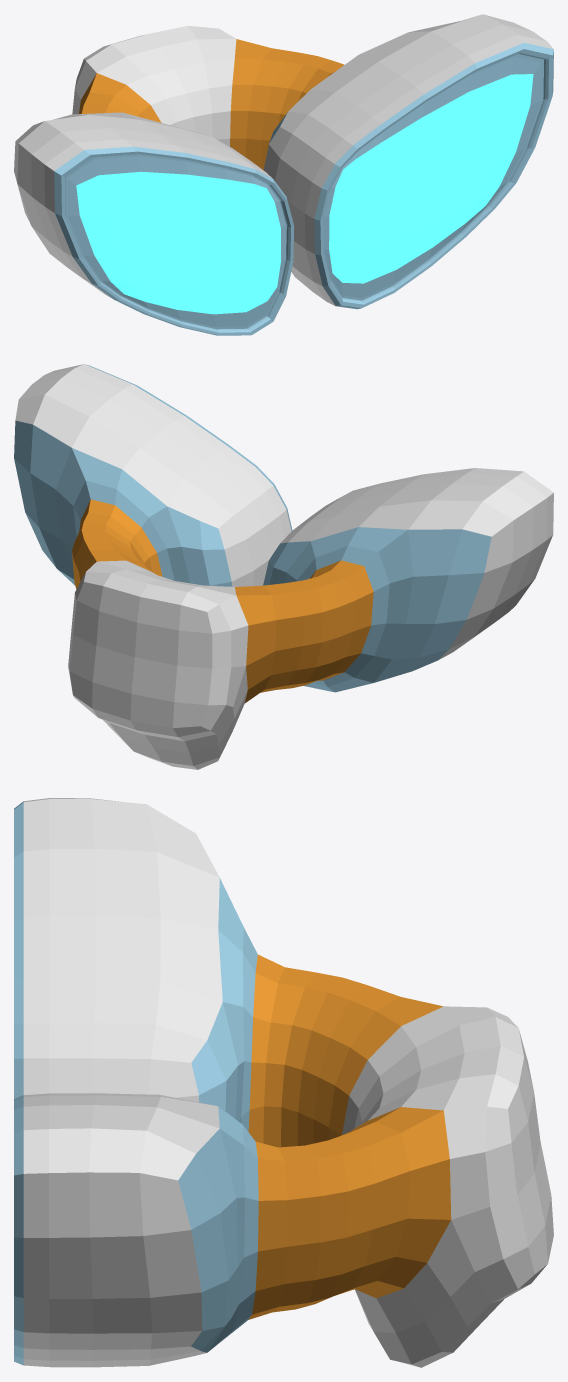
The model's file is eyes4.glb.
3 renders of one model, top to bottom at view 1: azimuth 30°, elevation 25°; view 2: azimuth 150°, elevation 25°; view 3: azimuth 270°, elevation 25°, orthographic. The views are drawn at different scales.
Visible parts, largest first — view 1: eyes4; view 2: eyes4; view 3: eyes4.
Part boxes in pixels (x1,y1,x2,y2): eyes4: (14,14,553,335); eyes4: (14,364,553,769); eyes4: (14,798,553,1367).
Size of the model in its own units: 1.43 by 0.6898 by 0.8682.
